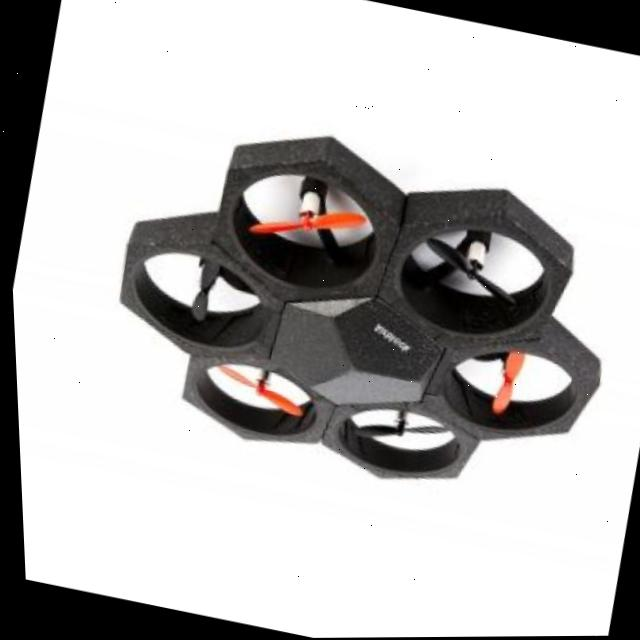drones: (41, 72, 640, 541)
